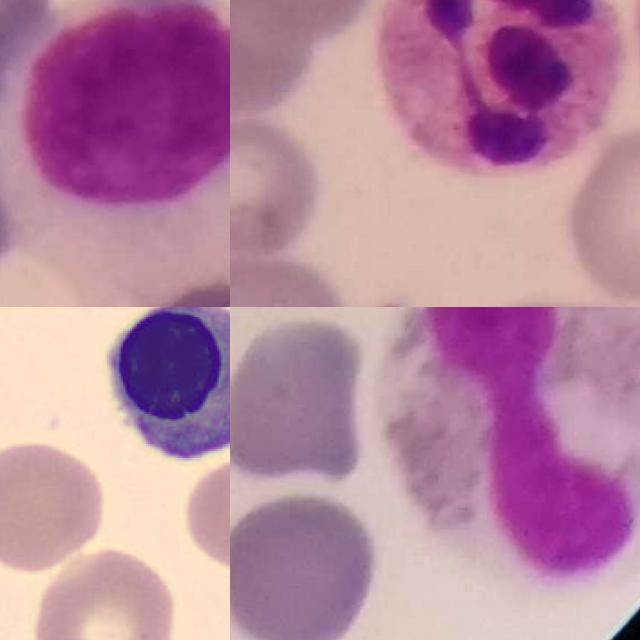Eosinophil: (381, 307, 640, 585)
Lymphocyte: (91, 307, 230, 468)
Monocyte: (0, 0, 230, 305)
Neutrophil: (370, 0, 625, 173)
RBC: (26, 542, 183, 640), (0, 435, 110, 574), (178, 444, 230, 572)
